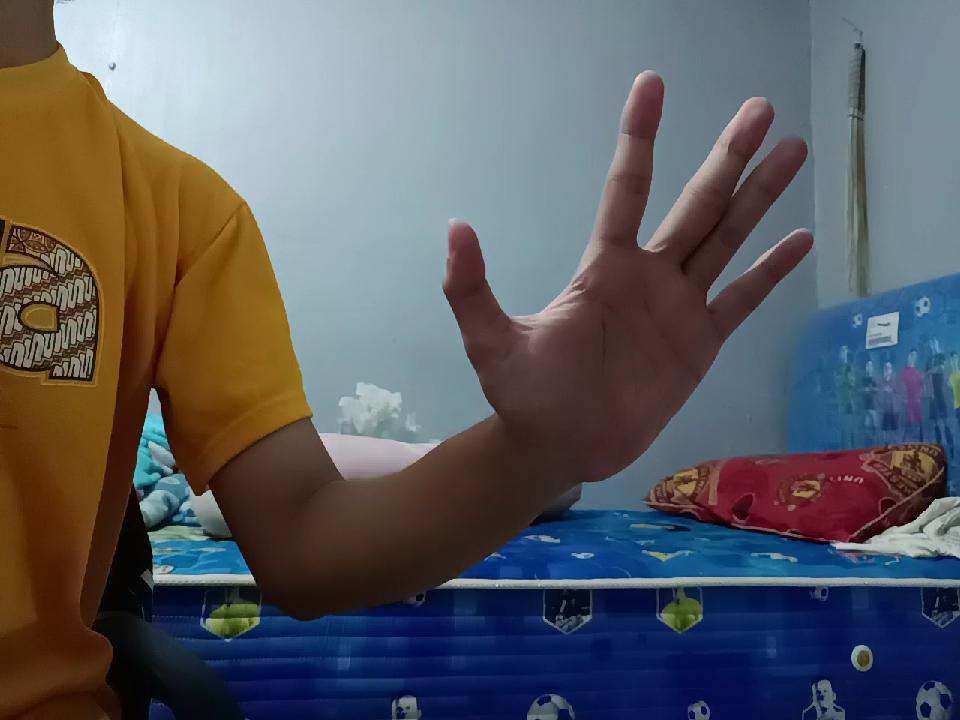paper: (420, 80, 830, 478)
